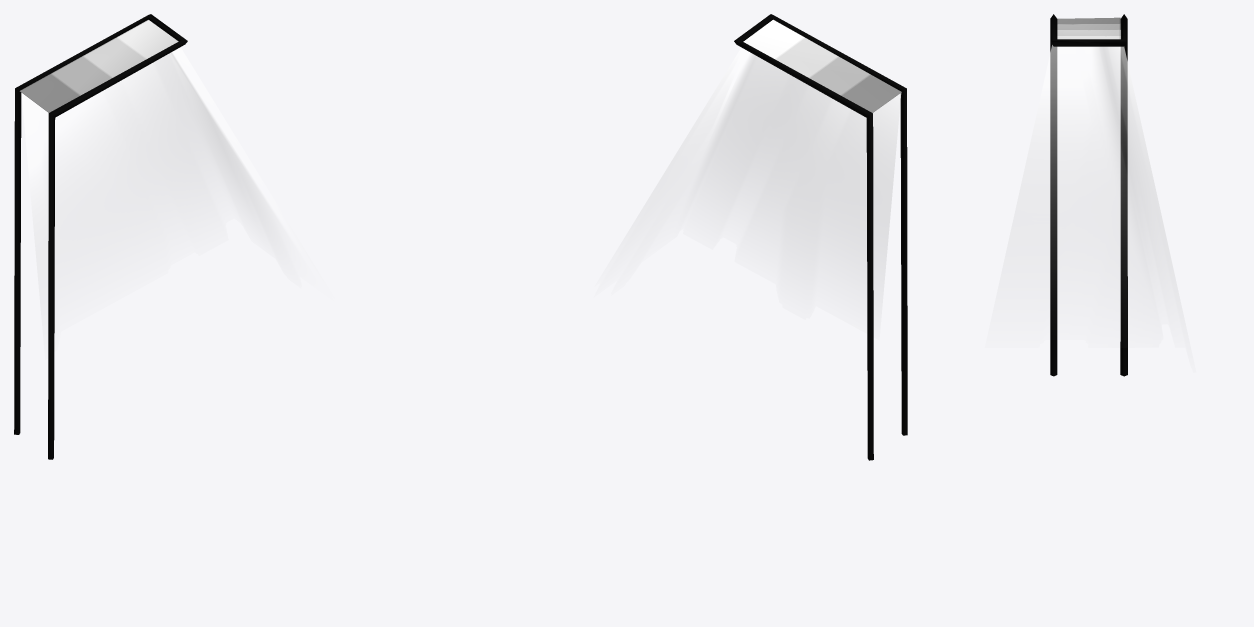
Rendered from meta_lamp.glb.
The picture shows the model from 3 angles, left to right: view 1: azimuth 30°, elevation 25°; view 2: azimuth 150°, elevation 25°; view 3: azimuth 270°, elevation 25°; orthographic projection. The views are drawn at different scales.
Parts seen in each view (by area): view 1: small_light_beam, meta_lamp; view 2: small_light_beam, meta_lamp; view 3: small_light_beam, meta_lamp.
Boxes of the visible parts, x1,y1,x2,y2 form: small_light_beam: (21, 47, 291, 292); meta_lamp: (14, 14, 187, 459); small_light_beam: (637, 47, 901, 272); meta_lamp: (734, 14, 907, 460); small_light_beam: (1005, 45, 1175, 283); meta_lamp: (1050, 14, 1127, 376).
Bounding box in the file's own units: 2.67 × 3.89 × 1.97.
Materials: 3 (2 with a texture image).
